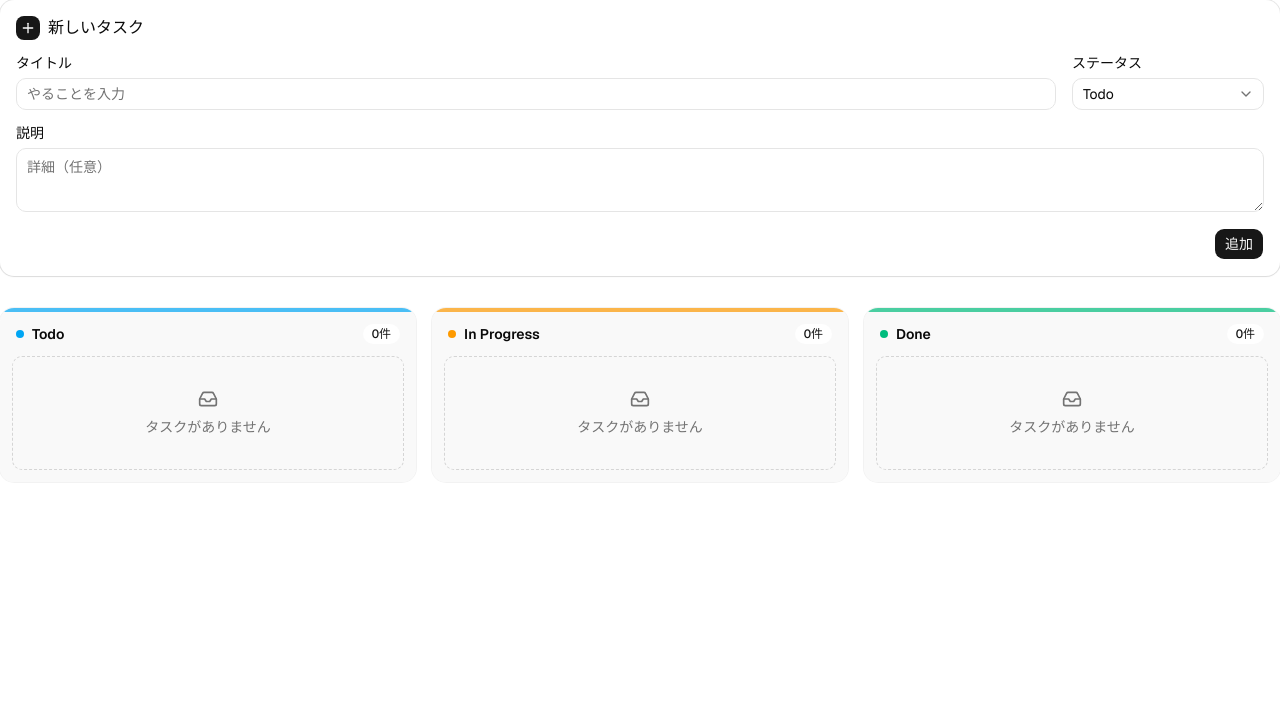
追加 › 追加に失敗したとき、エラーメッセージが表示され入力内容が残る
Type "新しいタスク" into the field labelled "タイトル".
click(536, 94); type("新しいタスク")  # box [16,78,1056,110]
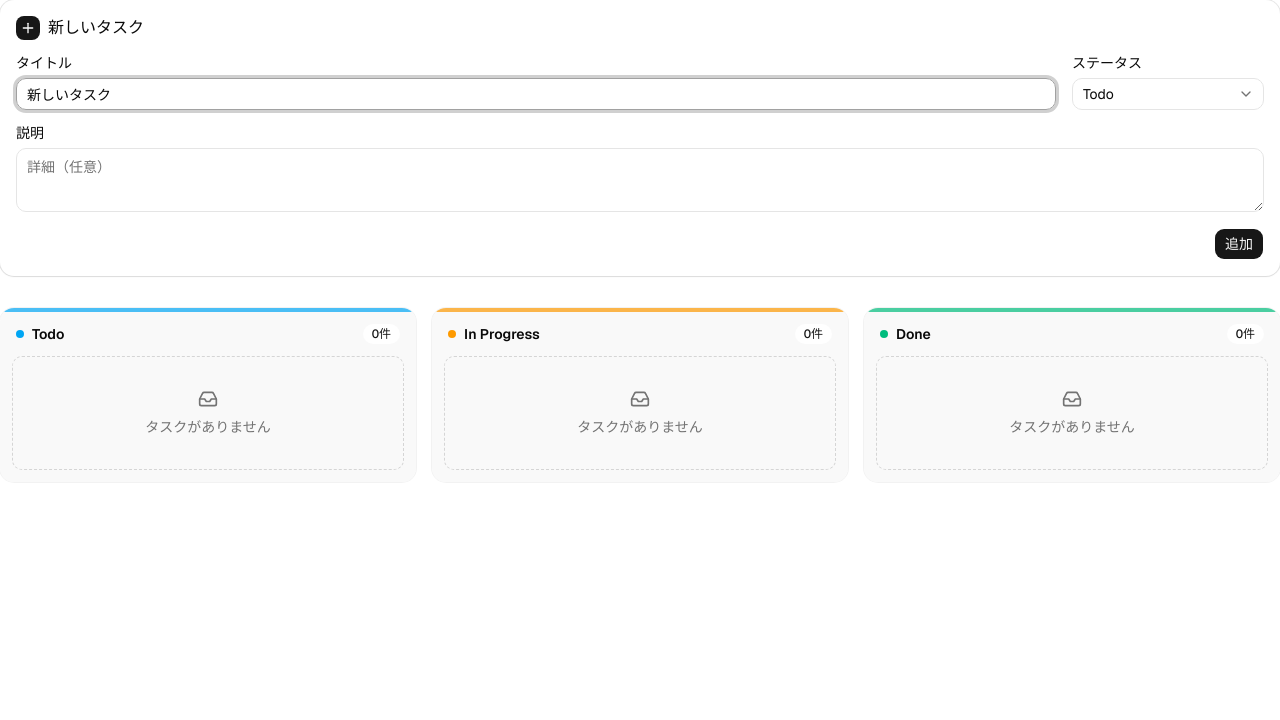
Click the button "追加".
click(1239, 244)  # box [1214,228,1264,260]
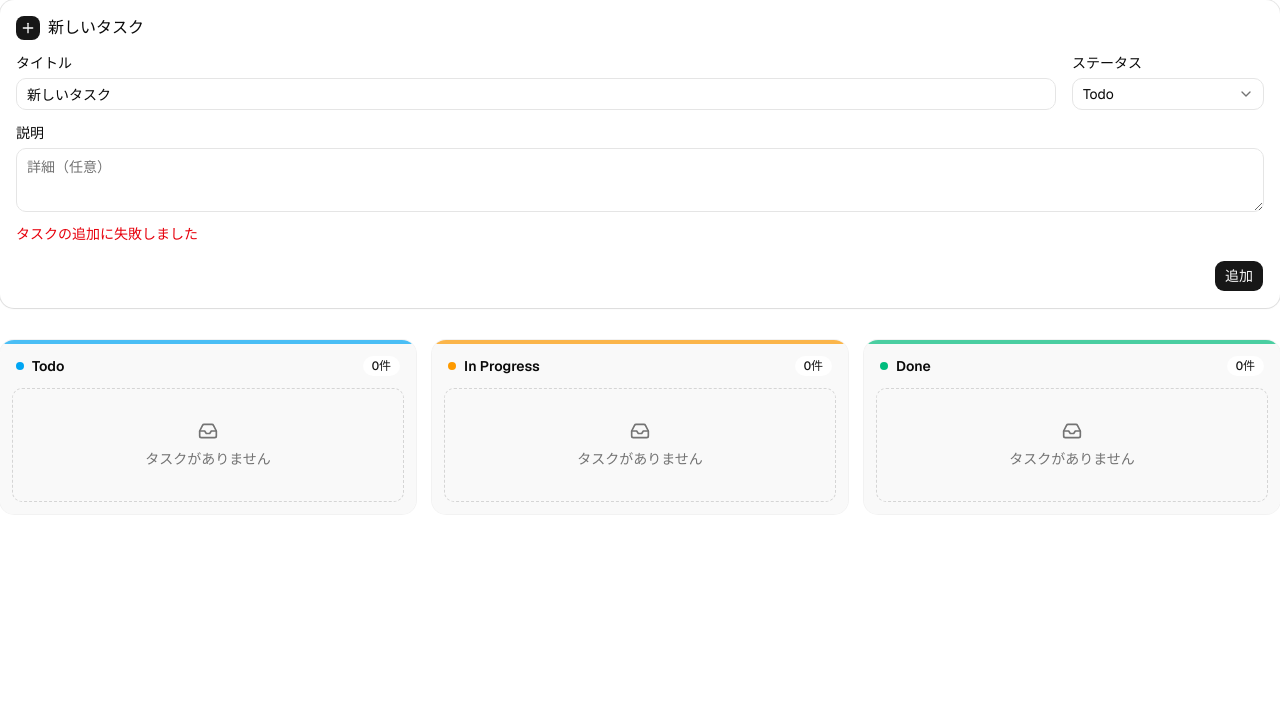
Expected: the message reads "タスクの追加に失敗しました", [16,225,198,243]
